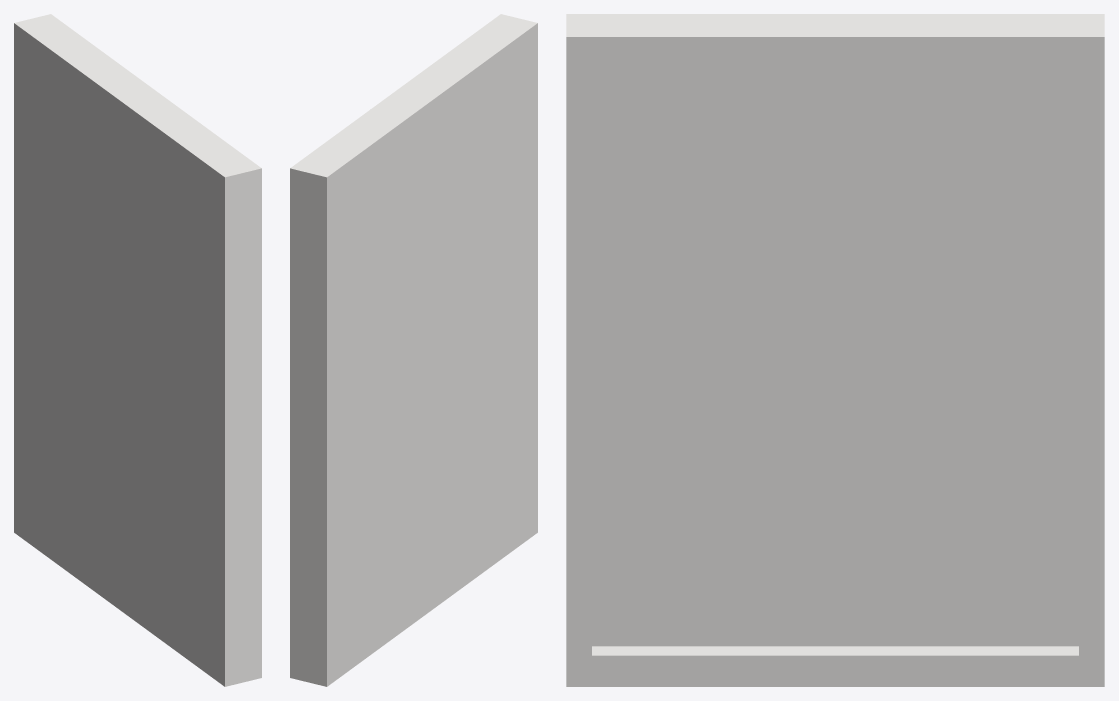
File: Picture.000.fbx
3 views of the same model, side by side, from view 1: azimuth 30°, elevation 25°; view 2: azimuth 150°, elevation 25°; view 3: azimuth 270°, elevation 25° (orthographic). The views are drawn at different scales.
Visible parts, largest first — view 1: Picture.000; view 2: Picture.000; view 3: Picture.000.
Boxes of the visible parts, left/top/right/bottom form: Picture.000: left=14, top=14, right=261, bottom=686; Picture.000: left=290, top=14, right=537, bottom=686; Picture.000: left=566, top=14, right=1104, bottom=686.
Size of the model in its own units: 2.93 by 38.55 by 28.92.
